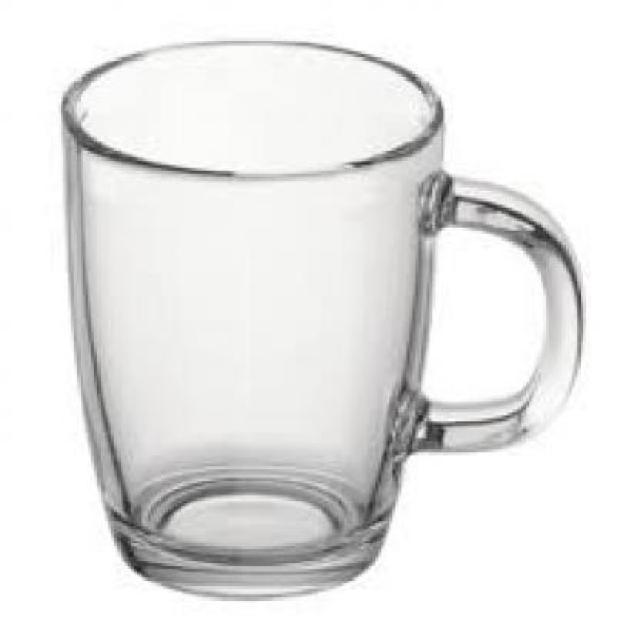kaca: (57, 37, 580, 594)
